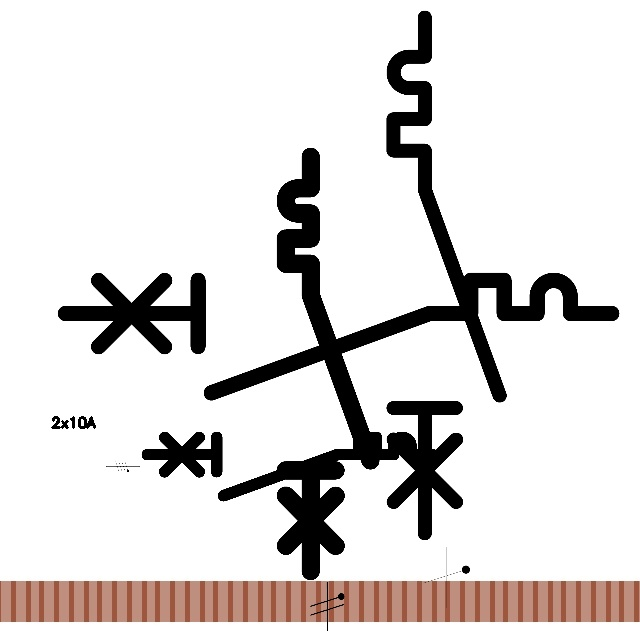interruptor_termomagnetico: (51, 266, 626, 406), (380, 4, 512, 546), (275, 146, 381, 581), (140, 430, 440, 503)
